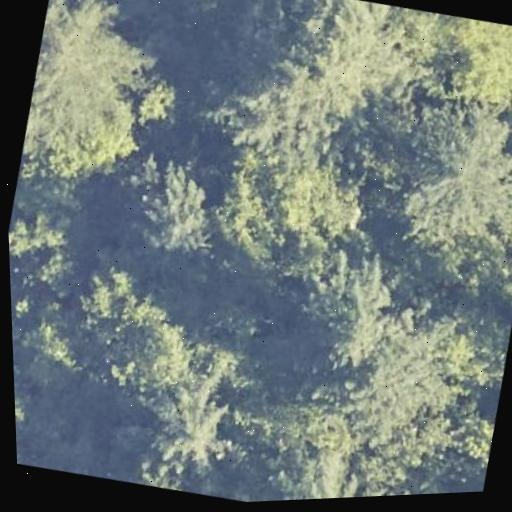tree-top: (10, 0, 192, 208), (192, 133, 382, 286), (374, 89, 512, 254), (284, 0, 424, 138), (211, 46, 351, 180), (345, 304, 470, 452), (135, 366, 258, 490), (295, 251, 406, 367), (110, 294, 211, 405), (119, 161, 224, 264), (422, 10, 512, 122), (257, 431, 363, 501), (363, 480, 433, 497)
